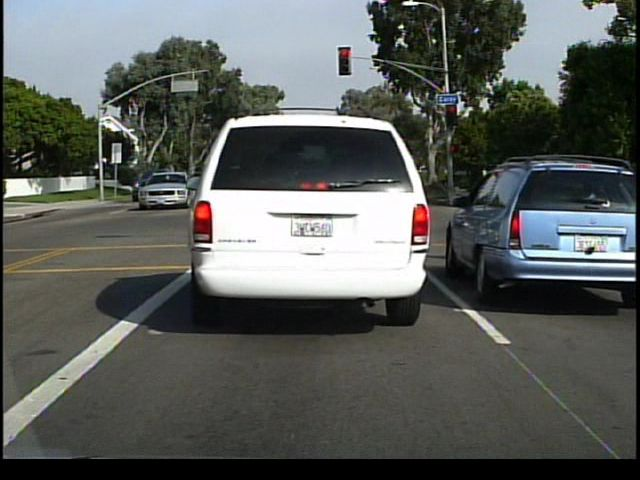car: (192, 107, 434, 323), (471, 156, 637, 317), (137, 164, 196, 211)
